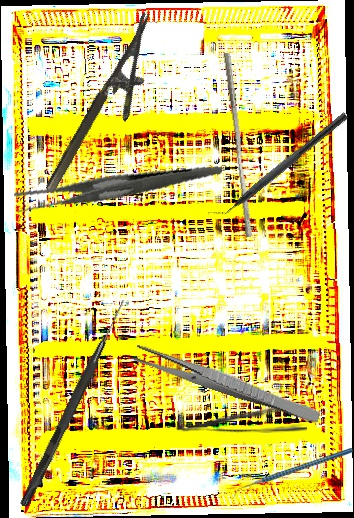Chopper: (205, 102, 350, 228), (231, 448, 353, 499)
Dressing Forceps: (11, 134, 223, 244), (131, 342, 323, 426), (176, 403, 307, 433)
Hook Surgical: (19, 296, 128, 510)
Needle Holder: (42, 10, 179, 208)
Pusher: (216, 52, 259, 238)
